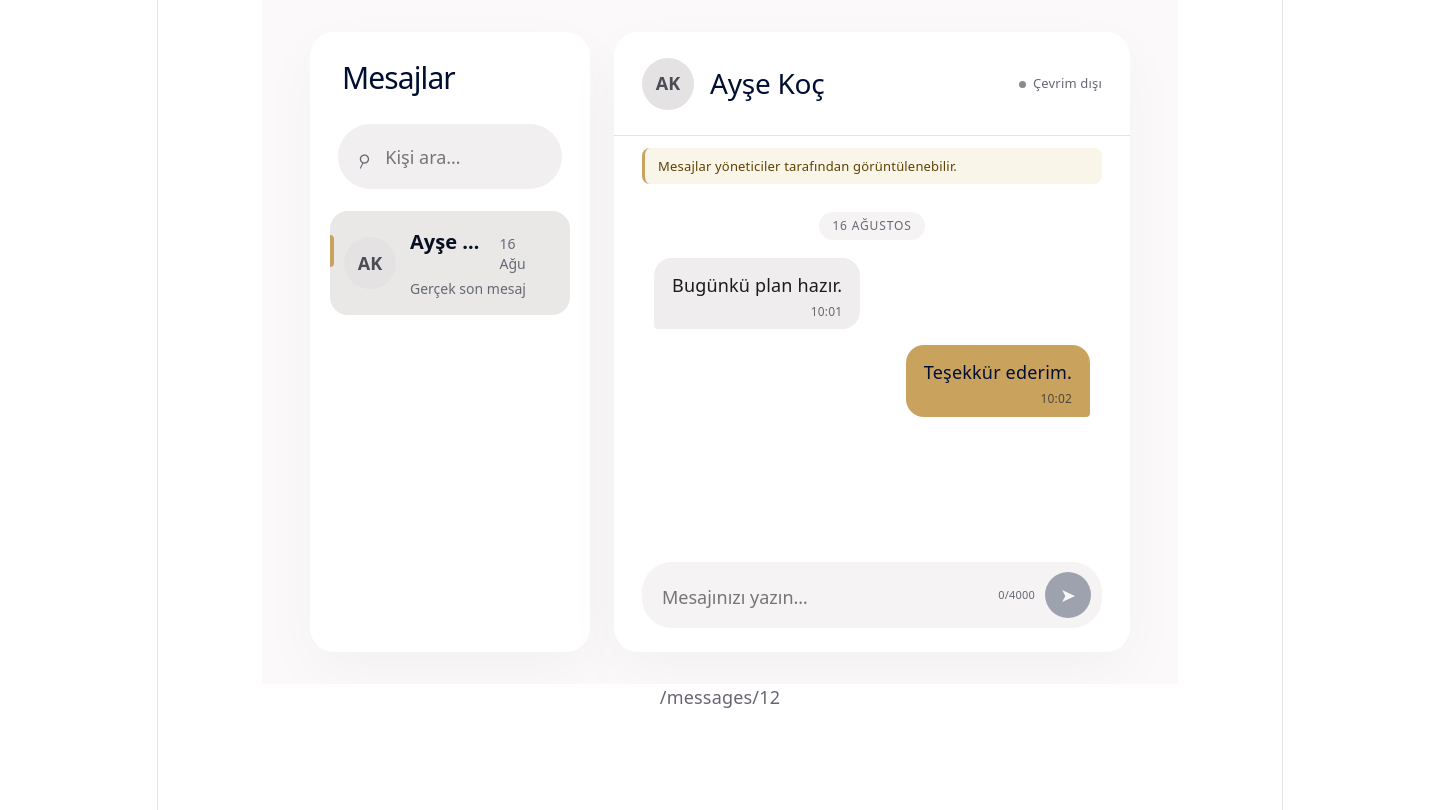
real responsive chat page › turns a backend-denied historical conversation into read-only mode
Expected: the text "Bugünkü plan hazır." is shown, [672,272,842,298]
Type "Gönder" into the text box labelled "Mesaj".
click(825, 597); type("Gönder")  # box [662,576,988,618]
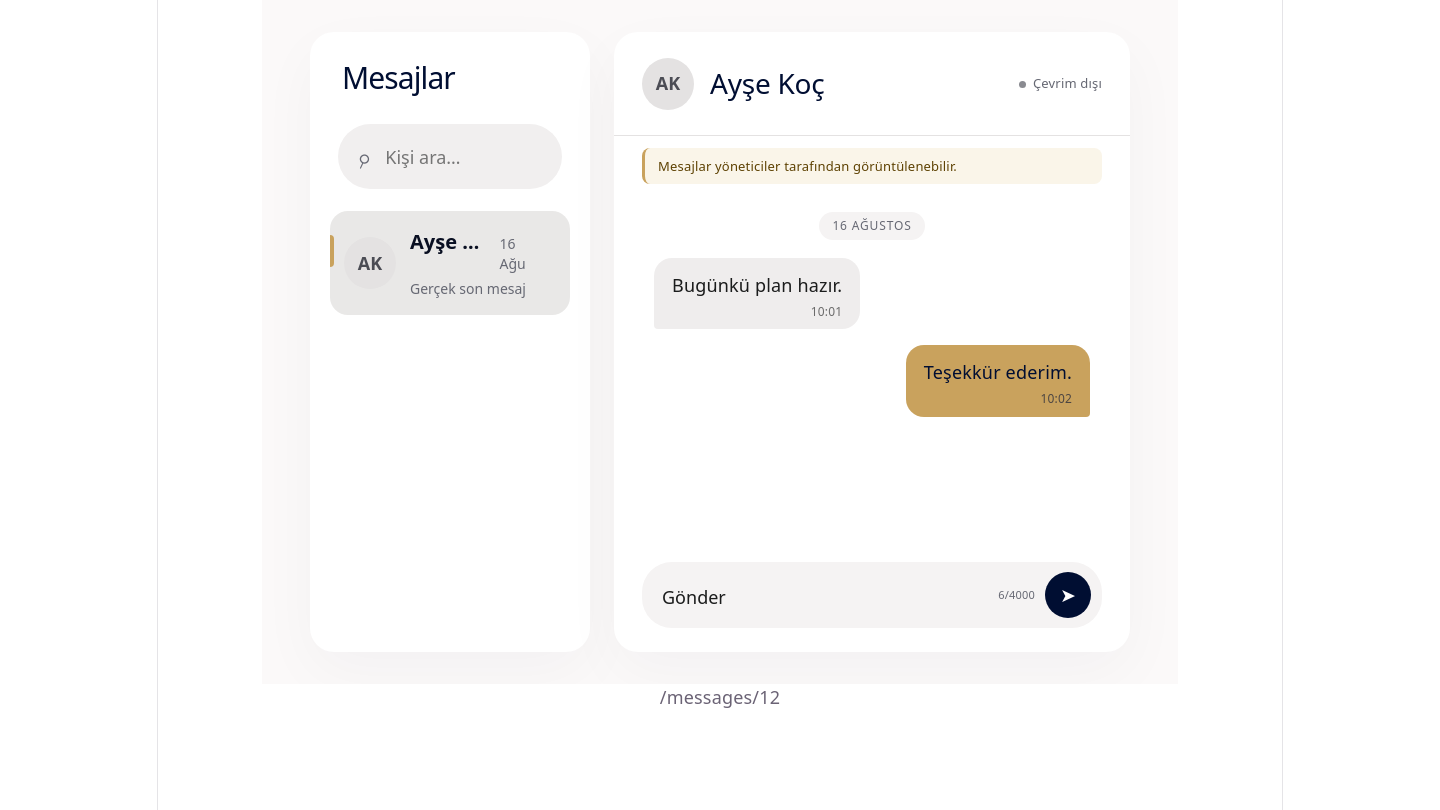
Click the button named "Mesaj gönder".
click(1068, 595)  # box [1045,572,1091,618]
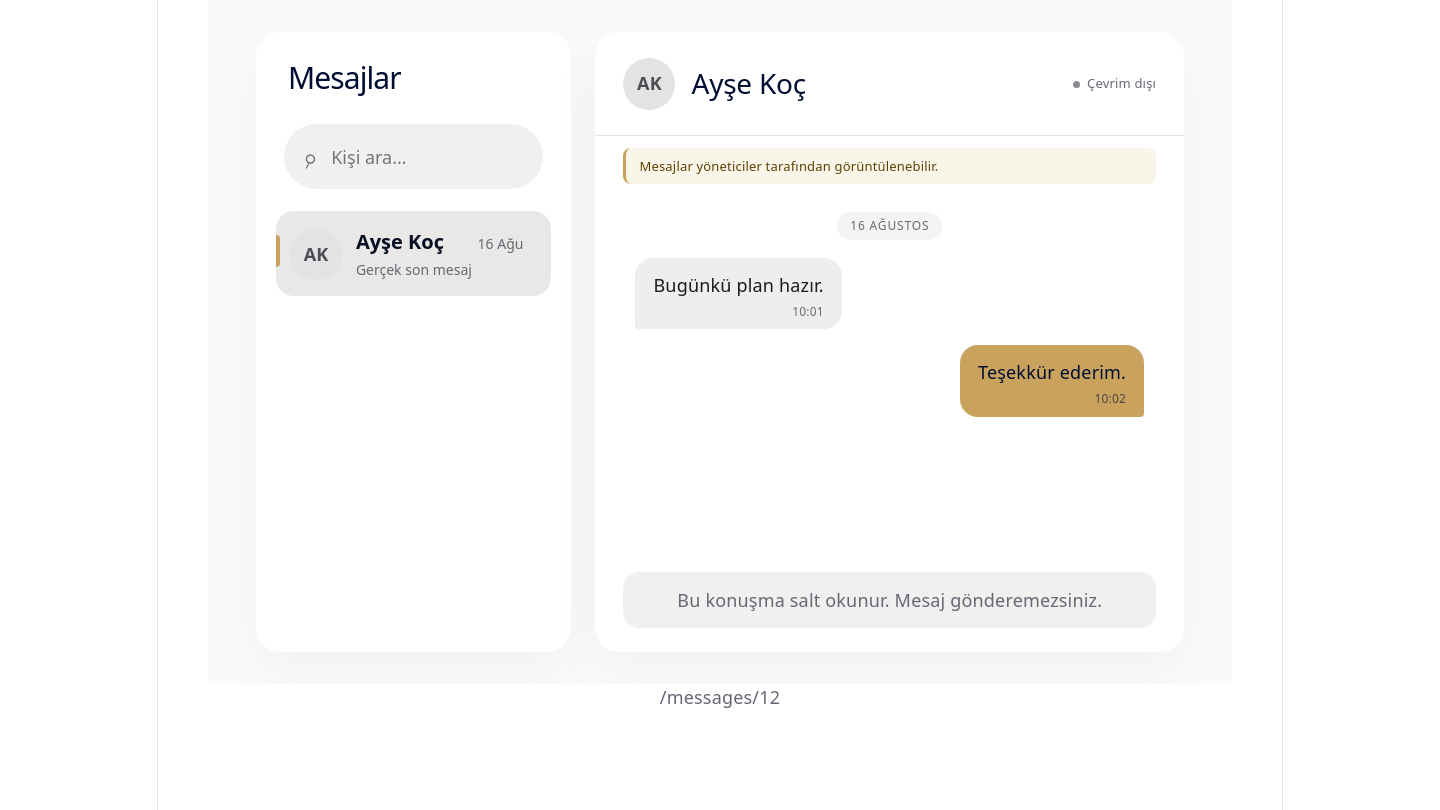
Expected: the text "Bu konuşma salt okunur. Mesaj gönderemezsiniz." is shown, [624,572,1156,628]
